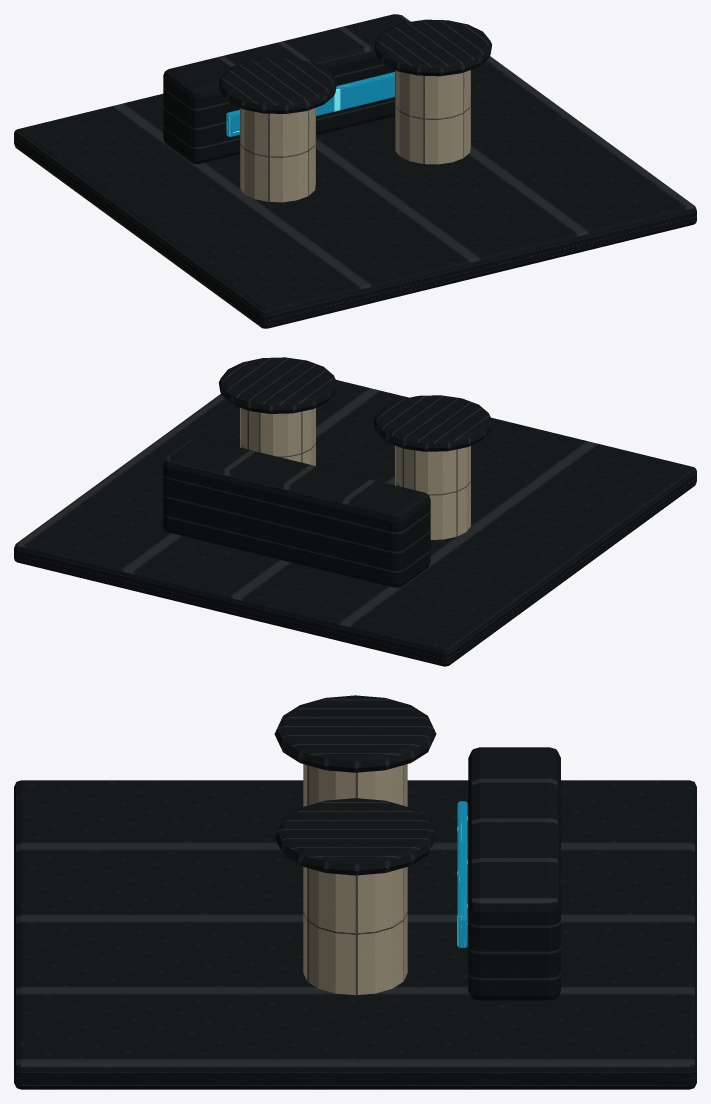
File: roof_hydroponics_vent_bank.glb
3 renders of one model, top to bottom at view 1: azimuth 30°, elevation 25°; view 2: azimuth 150°, elevation 25°; view 3: azimuth 270°, elevation 25°, orthographic. The views are drawn at different scales.
Visible parts, largest first — view 1: Removable roof mounting plate.002, Grow-light monitor, Vent stack, Vent stack.001, Vent cap, Vent cap.001, Cyan light; view 2: Removable roof mounting plate.002, Grow-light monitor, Vent cap, Vent cap.001, Vent stack, Vent stack.001; view 3: Removable roof mounting plate.002, Grow-light monitor, Vent stack.001, Vent cap, Vent cap.001, Vent stack, Cyan light.
Boxes of the visible parts, bbox=[...] form: Removable roof mounting plate.002: bbox=[14, 56, 696, 328]; Grow-light monitor: bbox=[163, 14, 410, 164]; Vent stack: bbox=[240, 108, 315, 202]; Vent stack.001: bbox=[395, 70, 470, 164]; Vent cap: bbox=[219, 57, 336, 113]; Vent cap.001: bbox=[374, 19, 491, 76]; Cyan light: bbox=[226, 72, 394, 136]; Removable roof mounting plate.002: bbox=[14, 380, 696, 666]; Grow-light monitor: bbox=[163, 437, 430, 587]; Vent cap: bbox=[374, 395, 491, 451]; Vent cap.001: bbox=[219, 357, 336, 413]; Vent stack: bbox=[395, 445, 470, 539]; Vent stack.001: bbox=[240, 407, 315, 465]; Removable roof mounting plate.002: bbox=[14, 780, 696, 1089]; Grow-light monitor: bbox=[468, 747, 560, 1000]; Vent stack.001: bbox=[303, 867, 407, 995]; Vent cap: bbox=[274, 695, 436, 772]; Vent cap.001: bbox=[274, 798, 436, 875]; Vent stack: bbox=[303, 764, 407, 806]; Cyan light: bbox=[457, 801, 467, 947].
Bounding box in the file's own units: 2.36 × 0.65 × 2.36.
3 materials, 3 textured.
